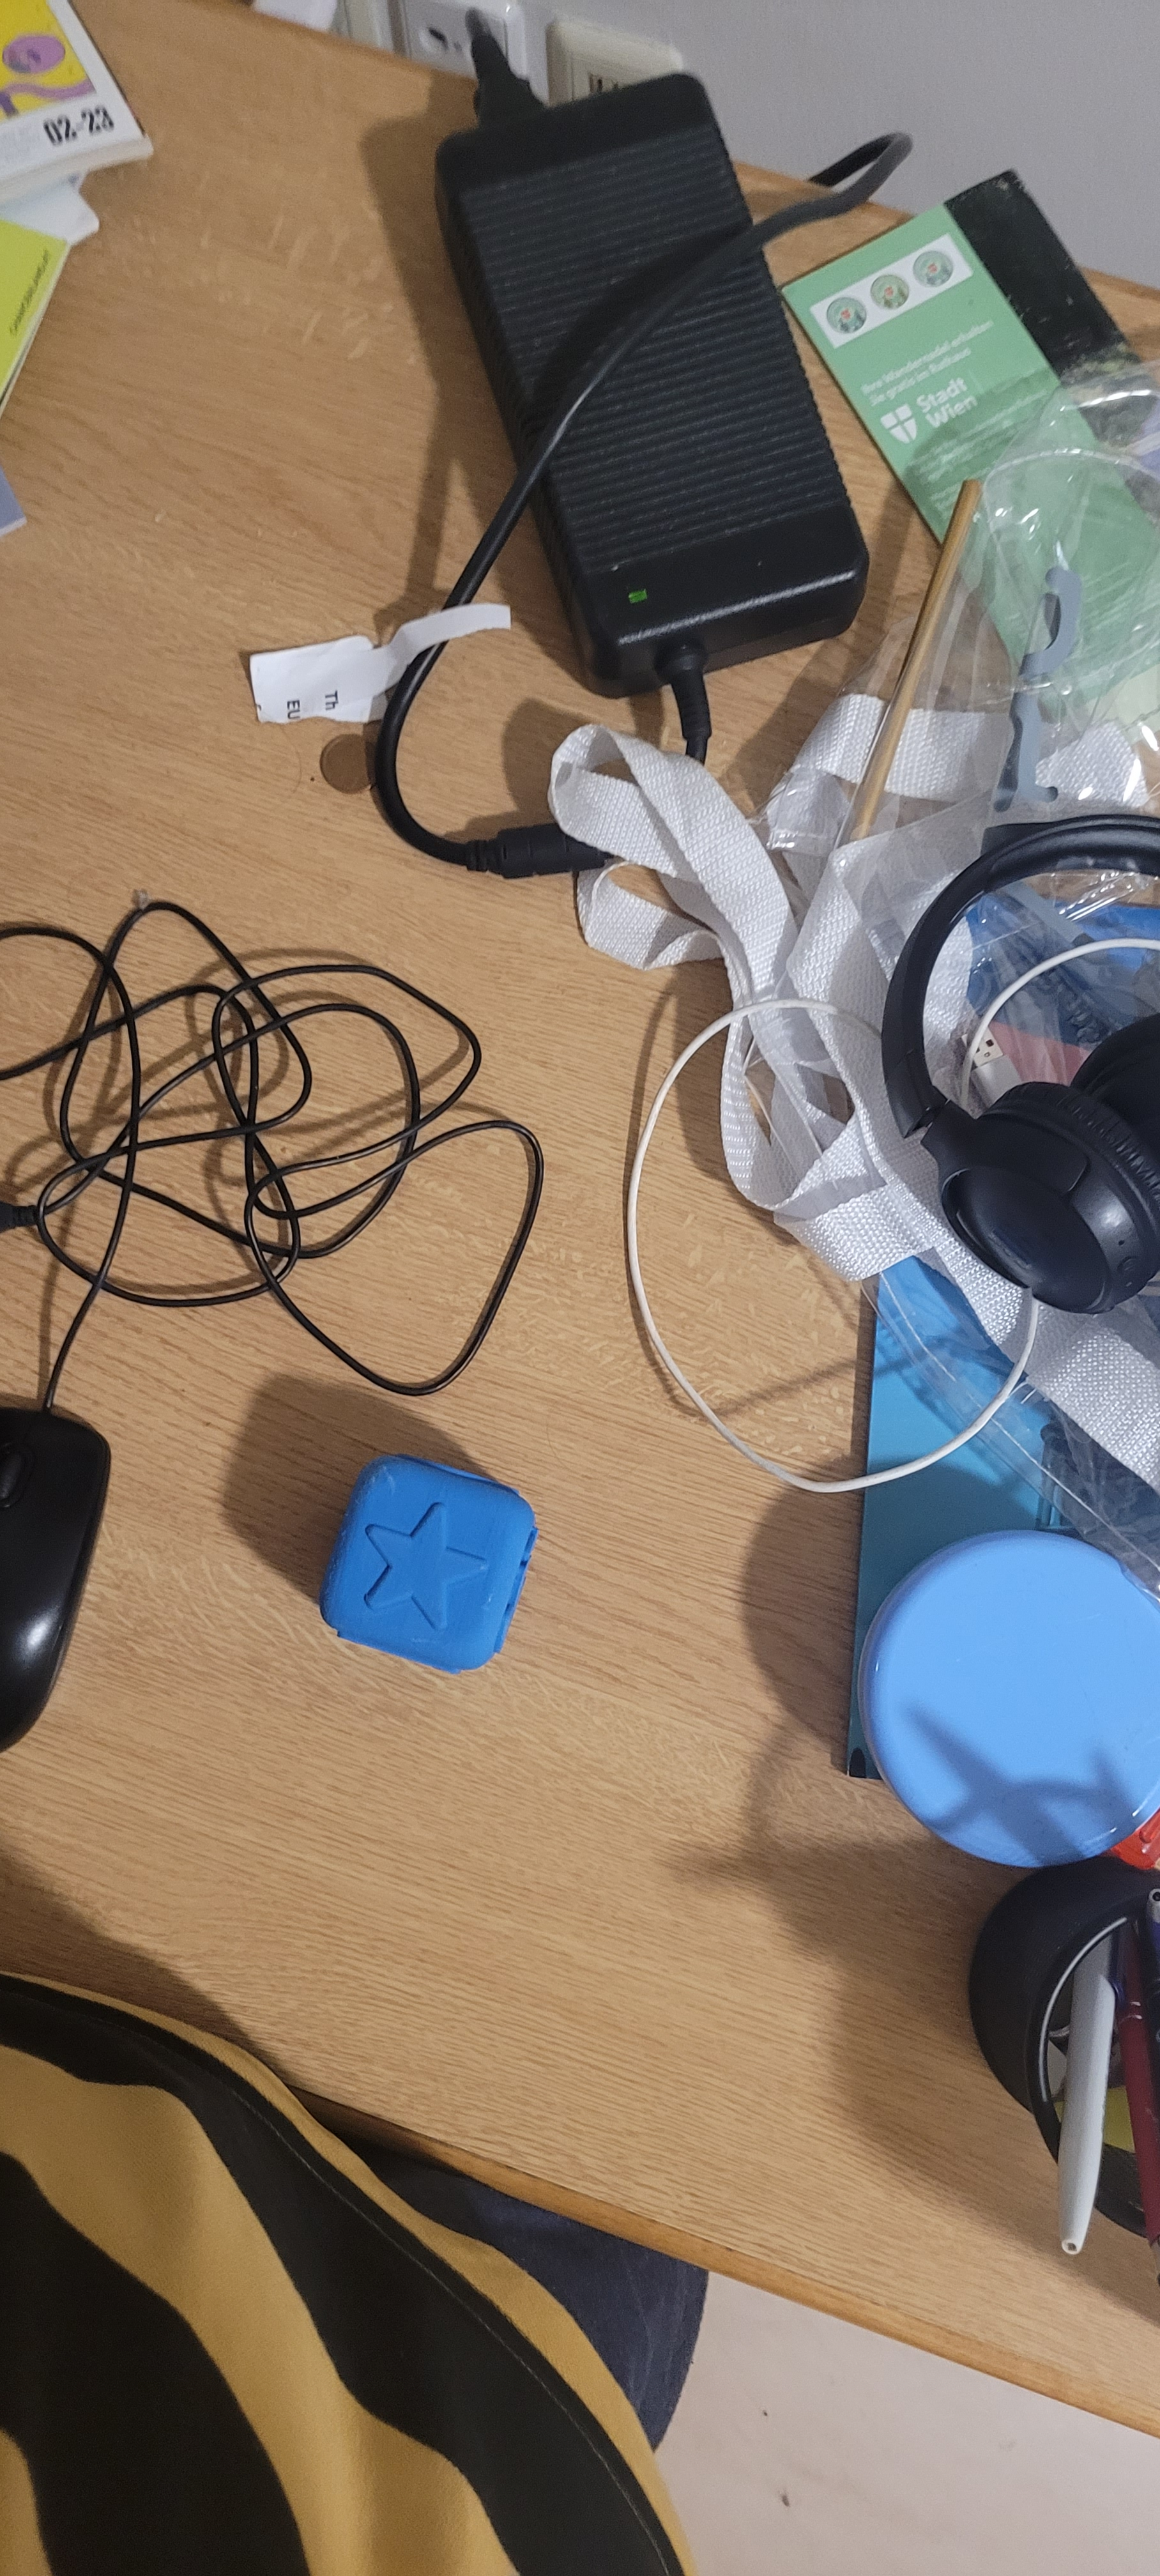Star: (307, 1444, 536, 1656)
